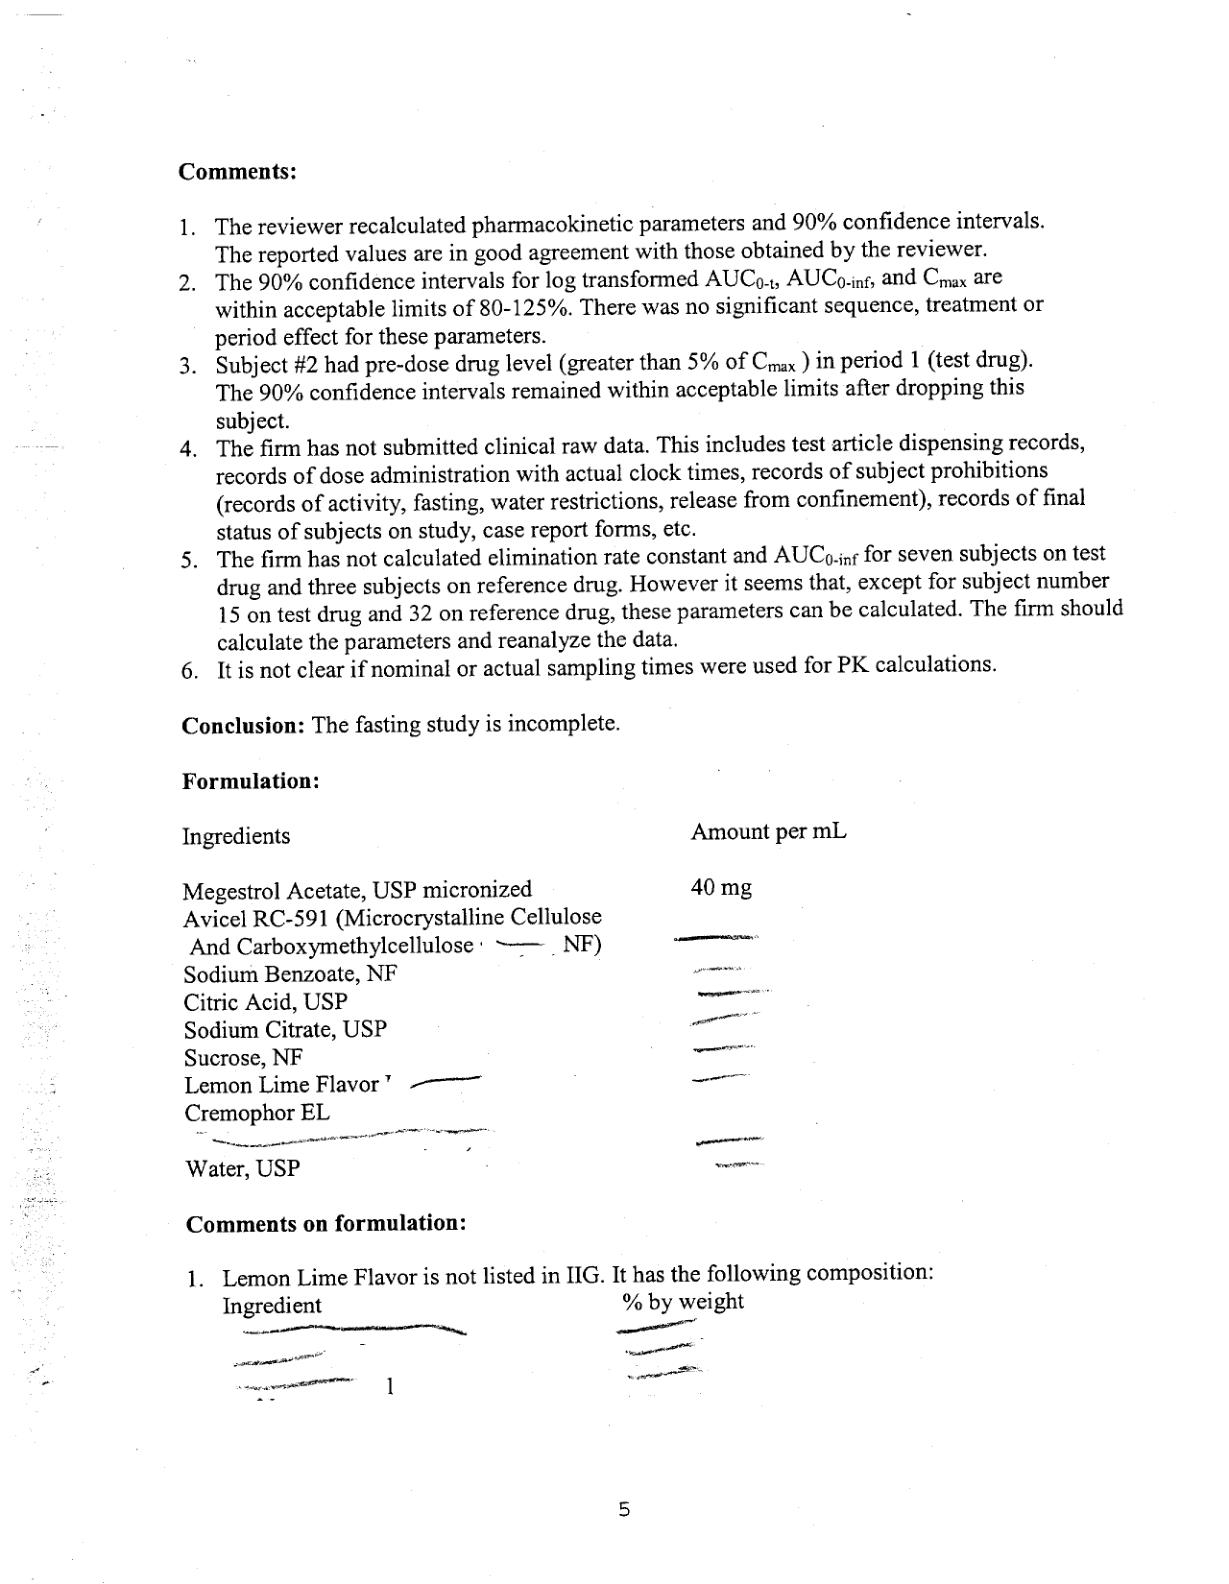nolines: (177, 822, 848, 1185)
